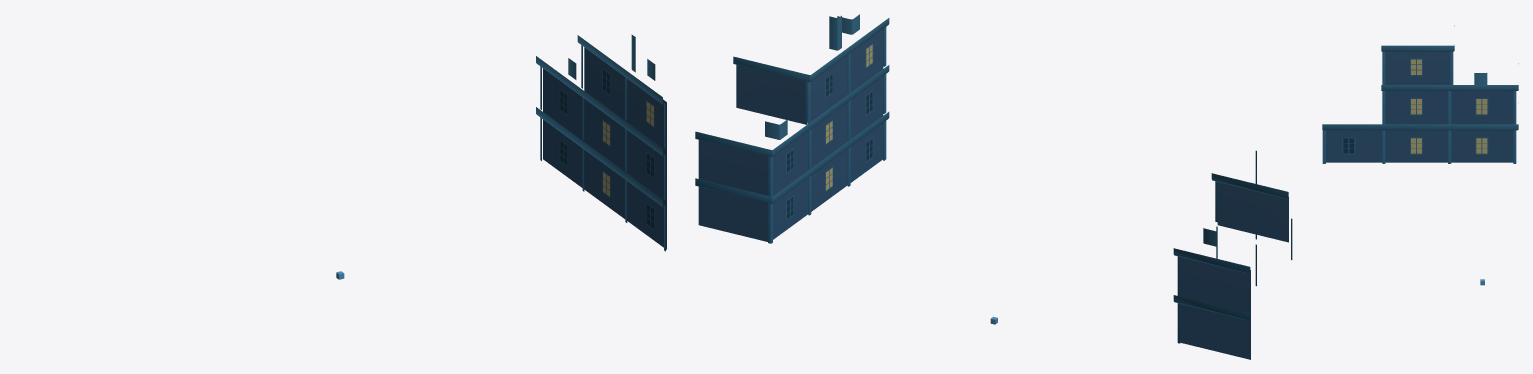
Rendered from FarBackBuilding03Night.glb.
The picture shows the model from 3 angles, left to right: view 1: azimuth 30°, elevation 25°; view 2: azimuth 150°, elevation 25°; view 3: azimuth 270°, elevation 25°; orthographic projection. The views are drawn at different scales.
Visible parts, largest first — view 1: FarBackBuilding03Night; view 2: FarBackBuilding03Night; view 3: FarBackBuilding03Night.
Part boxes in pixels (x1=…): FarBackBuilding03Night: x1=336, y1=34, x2=666, y2=279; FarBackBuilding03Night: x1=695, y1=14, x2=1292, y2=359; FarBackBuilding03Night: x1=1322, y1=25, x2=1518, y2=285.
Bounding box in the file's own units: 76.34 × 27.96 × 27.83.
